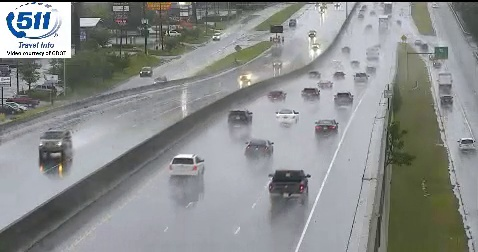car: (269, 170, 308, 200), (168, 153, 204, 176), (244, 139, 273, 157), (314, 119, 338, 134), (275, 109, 299, 124), (228, 110, 252, 125), (333, 92, 353, 106)
